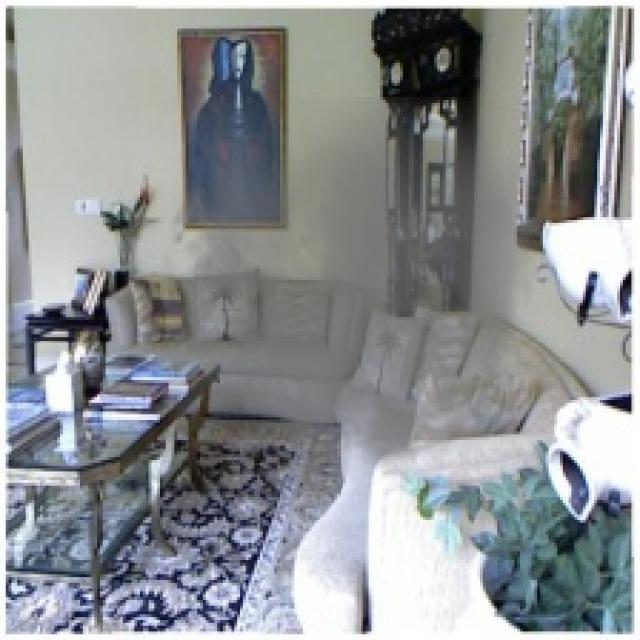Smoke: (160, 97, 537, 489)
